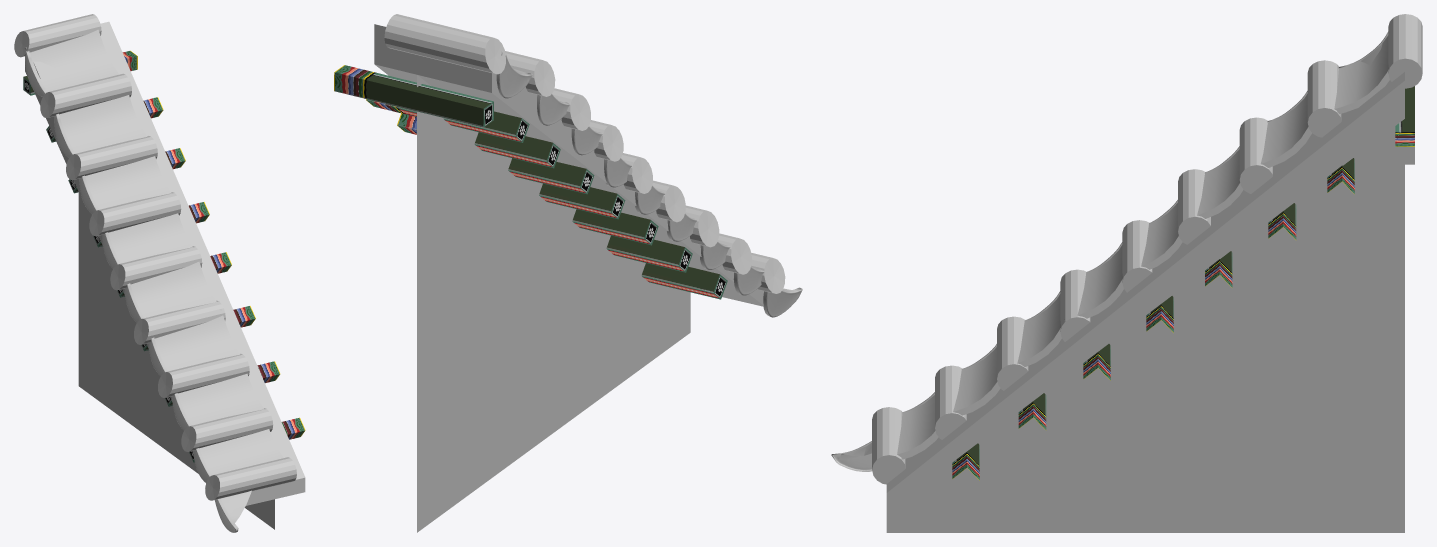
Rendered from SM_R_RoofOuter_13.fbx.
3 views of the same model, side by side, from view 1: azimuth 30°, elevation 25°; view 2: azimuth 150°, elevation 25°; view 3: azimuth 270°, elevation 25° (orthographic). The views are drawn at different scales.
Visible parts, largest first — view 1: SM_R_RoofOuter_13_LOD0; view 2: SM_R_RoofOuter_13_LOD0; view 3: SM_R_RoofOuter_13_LOD0.
Boxes of the visible parts, <box> form: SM_R_RoofOuter_13_LOD0: <box>14,14,305,532</box>; SM_R_RoofOuter_13_LOD0: <box>334,14,802,532</box>; SM_R_RoofOuter_13_LOD0: <box>831,14,1422,532</box>.
Size of the model in its own units: 95.77 by 307 by 278.
